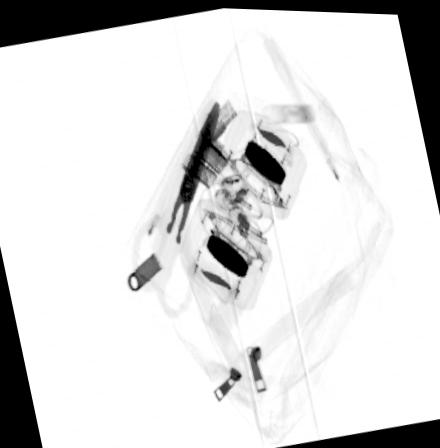Scissors: (132, 97, 223, 313)
